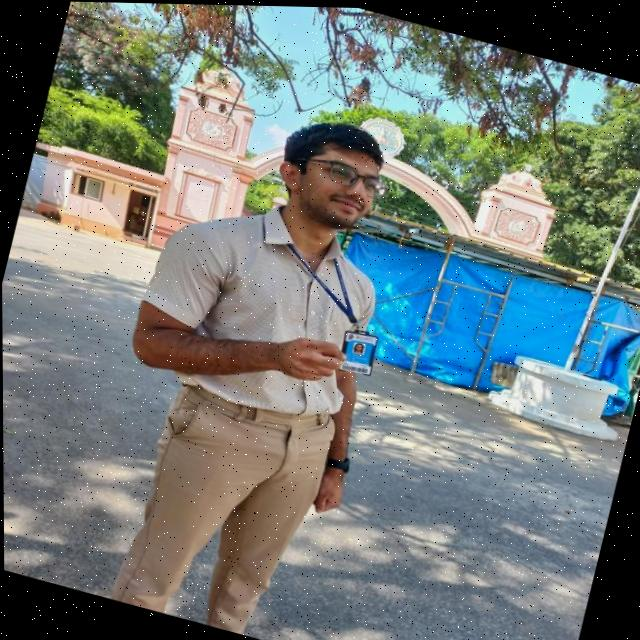id_card: (257, 220, 405, 380)
